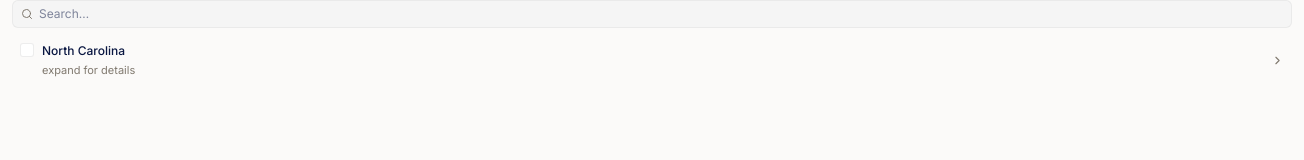
Test case: OnboardingTreePicker lazy loadChildren › calls loadChildren once on first expand and shows a loading row
Later steps or results of the test are not shown.
Click the button named "Show details": (1277, 60) top-left (1262, 36), bottom-right (1292, 84)
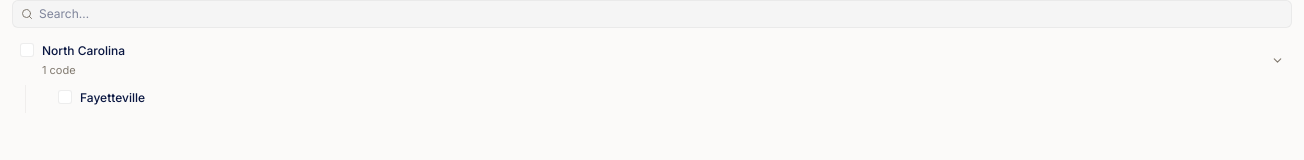
Now the text "Fayetteville" is shown, box top-left (80, 88), bottom-right (145, 106)
